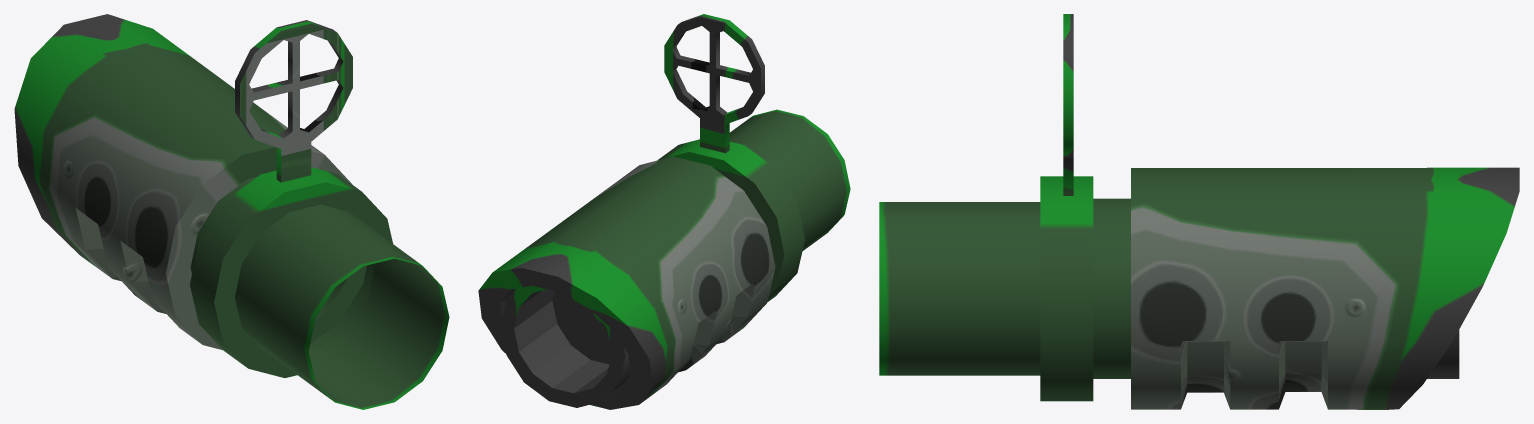
The model's file is Laser Gun.fbx.
The picture shows the model from 3 angles, left to right: view 1: azimuth 30°, elevation 25°; view 2: azimuth 150°, elevation 25°; view 3: azimuth 270°, elevation 25°; orthographic projection. The views are drawn at different scales.
Parts seen in each view (by area): view 1: Laser_Muzzle, Laser_Barrel, Laser_Crossheir; view 2: Laser_Muzzle, Laser_Barrel, Laser_Crossheir; view 3: Laser_Muzzle, Laser_Barrel, Laser_Crossheir.
Part boxes in pixels (box(x1,y1,x2,y2)): Laser_Muzzle: box(14, 14, 351, 350); Laser_Barrel: box(190, 167, 449, 409); Laser_Crossheir: box(235, 20, 352, 182); Laser_Muzzle: box(478, 156, 775, 409); Laser_Barrel: box(500, 109, 850, 407); Laser_Crossheir: box(664, 14, 764, 153); Laser_Muzzle: box(1131, 167, 1519, 409); Laser_Barrel: box(879, 176, 1459, 401); Laser_Crossheir: box(1063, 14, 1073, 195).
Bounding box in the file's own units: 0.998 × 1.68 × 2.59.
